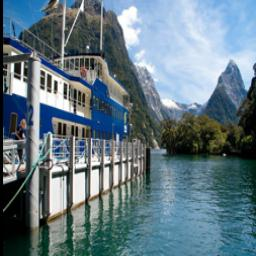Swallow: (34, 0, 59, 11)
